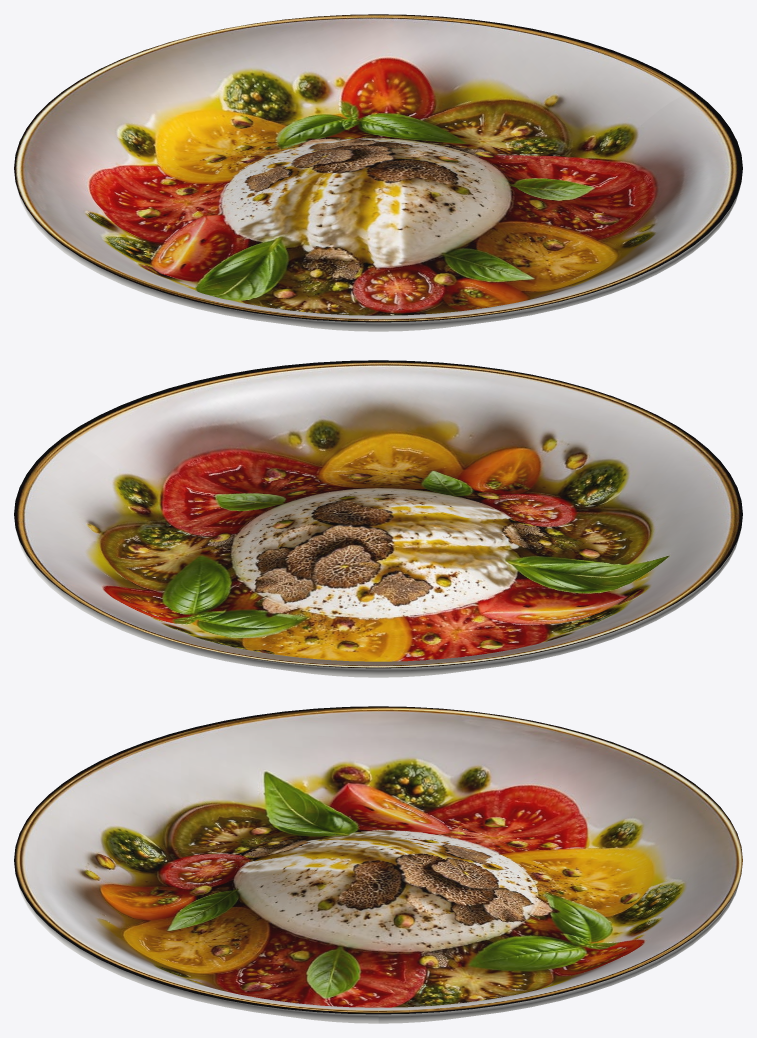
The model's file is burrata.glb.
3 renders of one model, top to bottom at view 1: azimuth 30°, elevation 25°; view 2: azimuth 150°, elevation 25°; view 3: azimuth 270°, elevation 25°, orthographic.
Parts seen in each view (by area): view 1: dish; view 2: dish; view 3: dish.
Boxes of the visible parts, <box> form: dish: <box>14,14,742,331</box>; dish: <box>14,360,742,677</box>; dish: <box>14,706,742,1023</box>.
Size of the model in its own units: 0.25 by 0.025 by 0.25.
2 materials, 1 textured.
